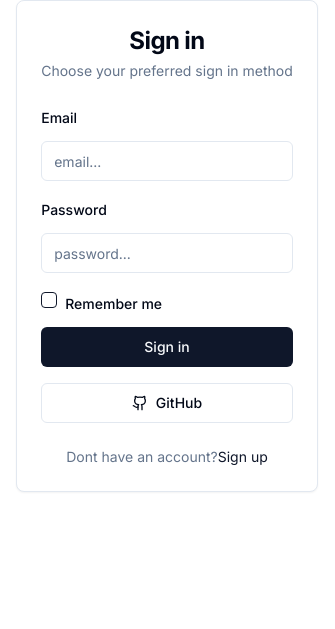
Test: SignIn › shows success message on valid submit
The image size is (335, 629).
In the field labelled "Email": (167, 161) [41,141,293,181], type "test@gmail.com"
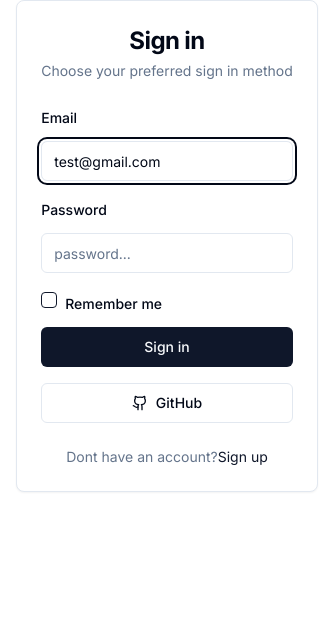
In the password field labelled "Password": (167, 253) [41,233,293,273], type "testPass"
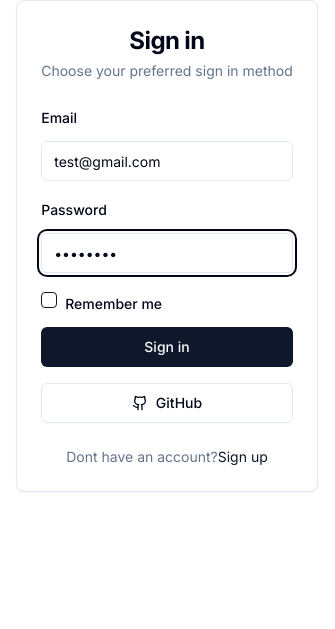
Click the checkbox named "Remember me": (49, 300) [41,292,57,308]
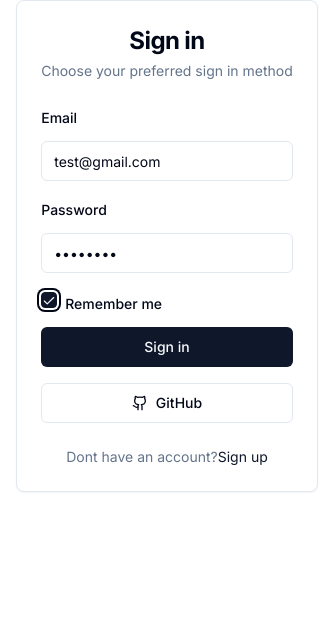
Click the button "Sign in": (167, 347) [41,327,293,367]
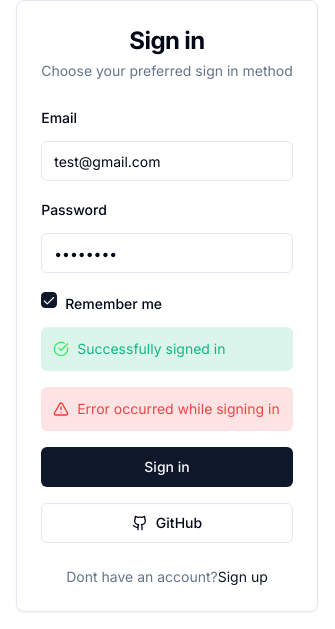
Expected: the text "Successfully signed in" is shown, [41,327,293,371]
